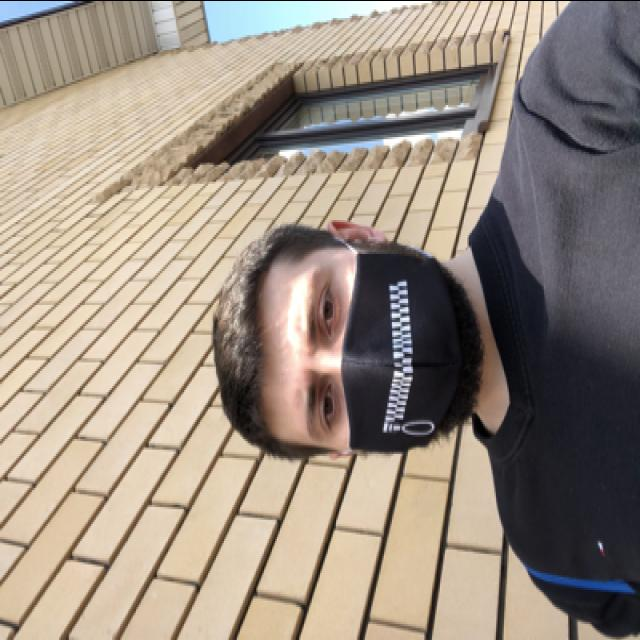mask: (284, 238, 482, 462)
